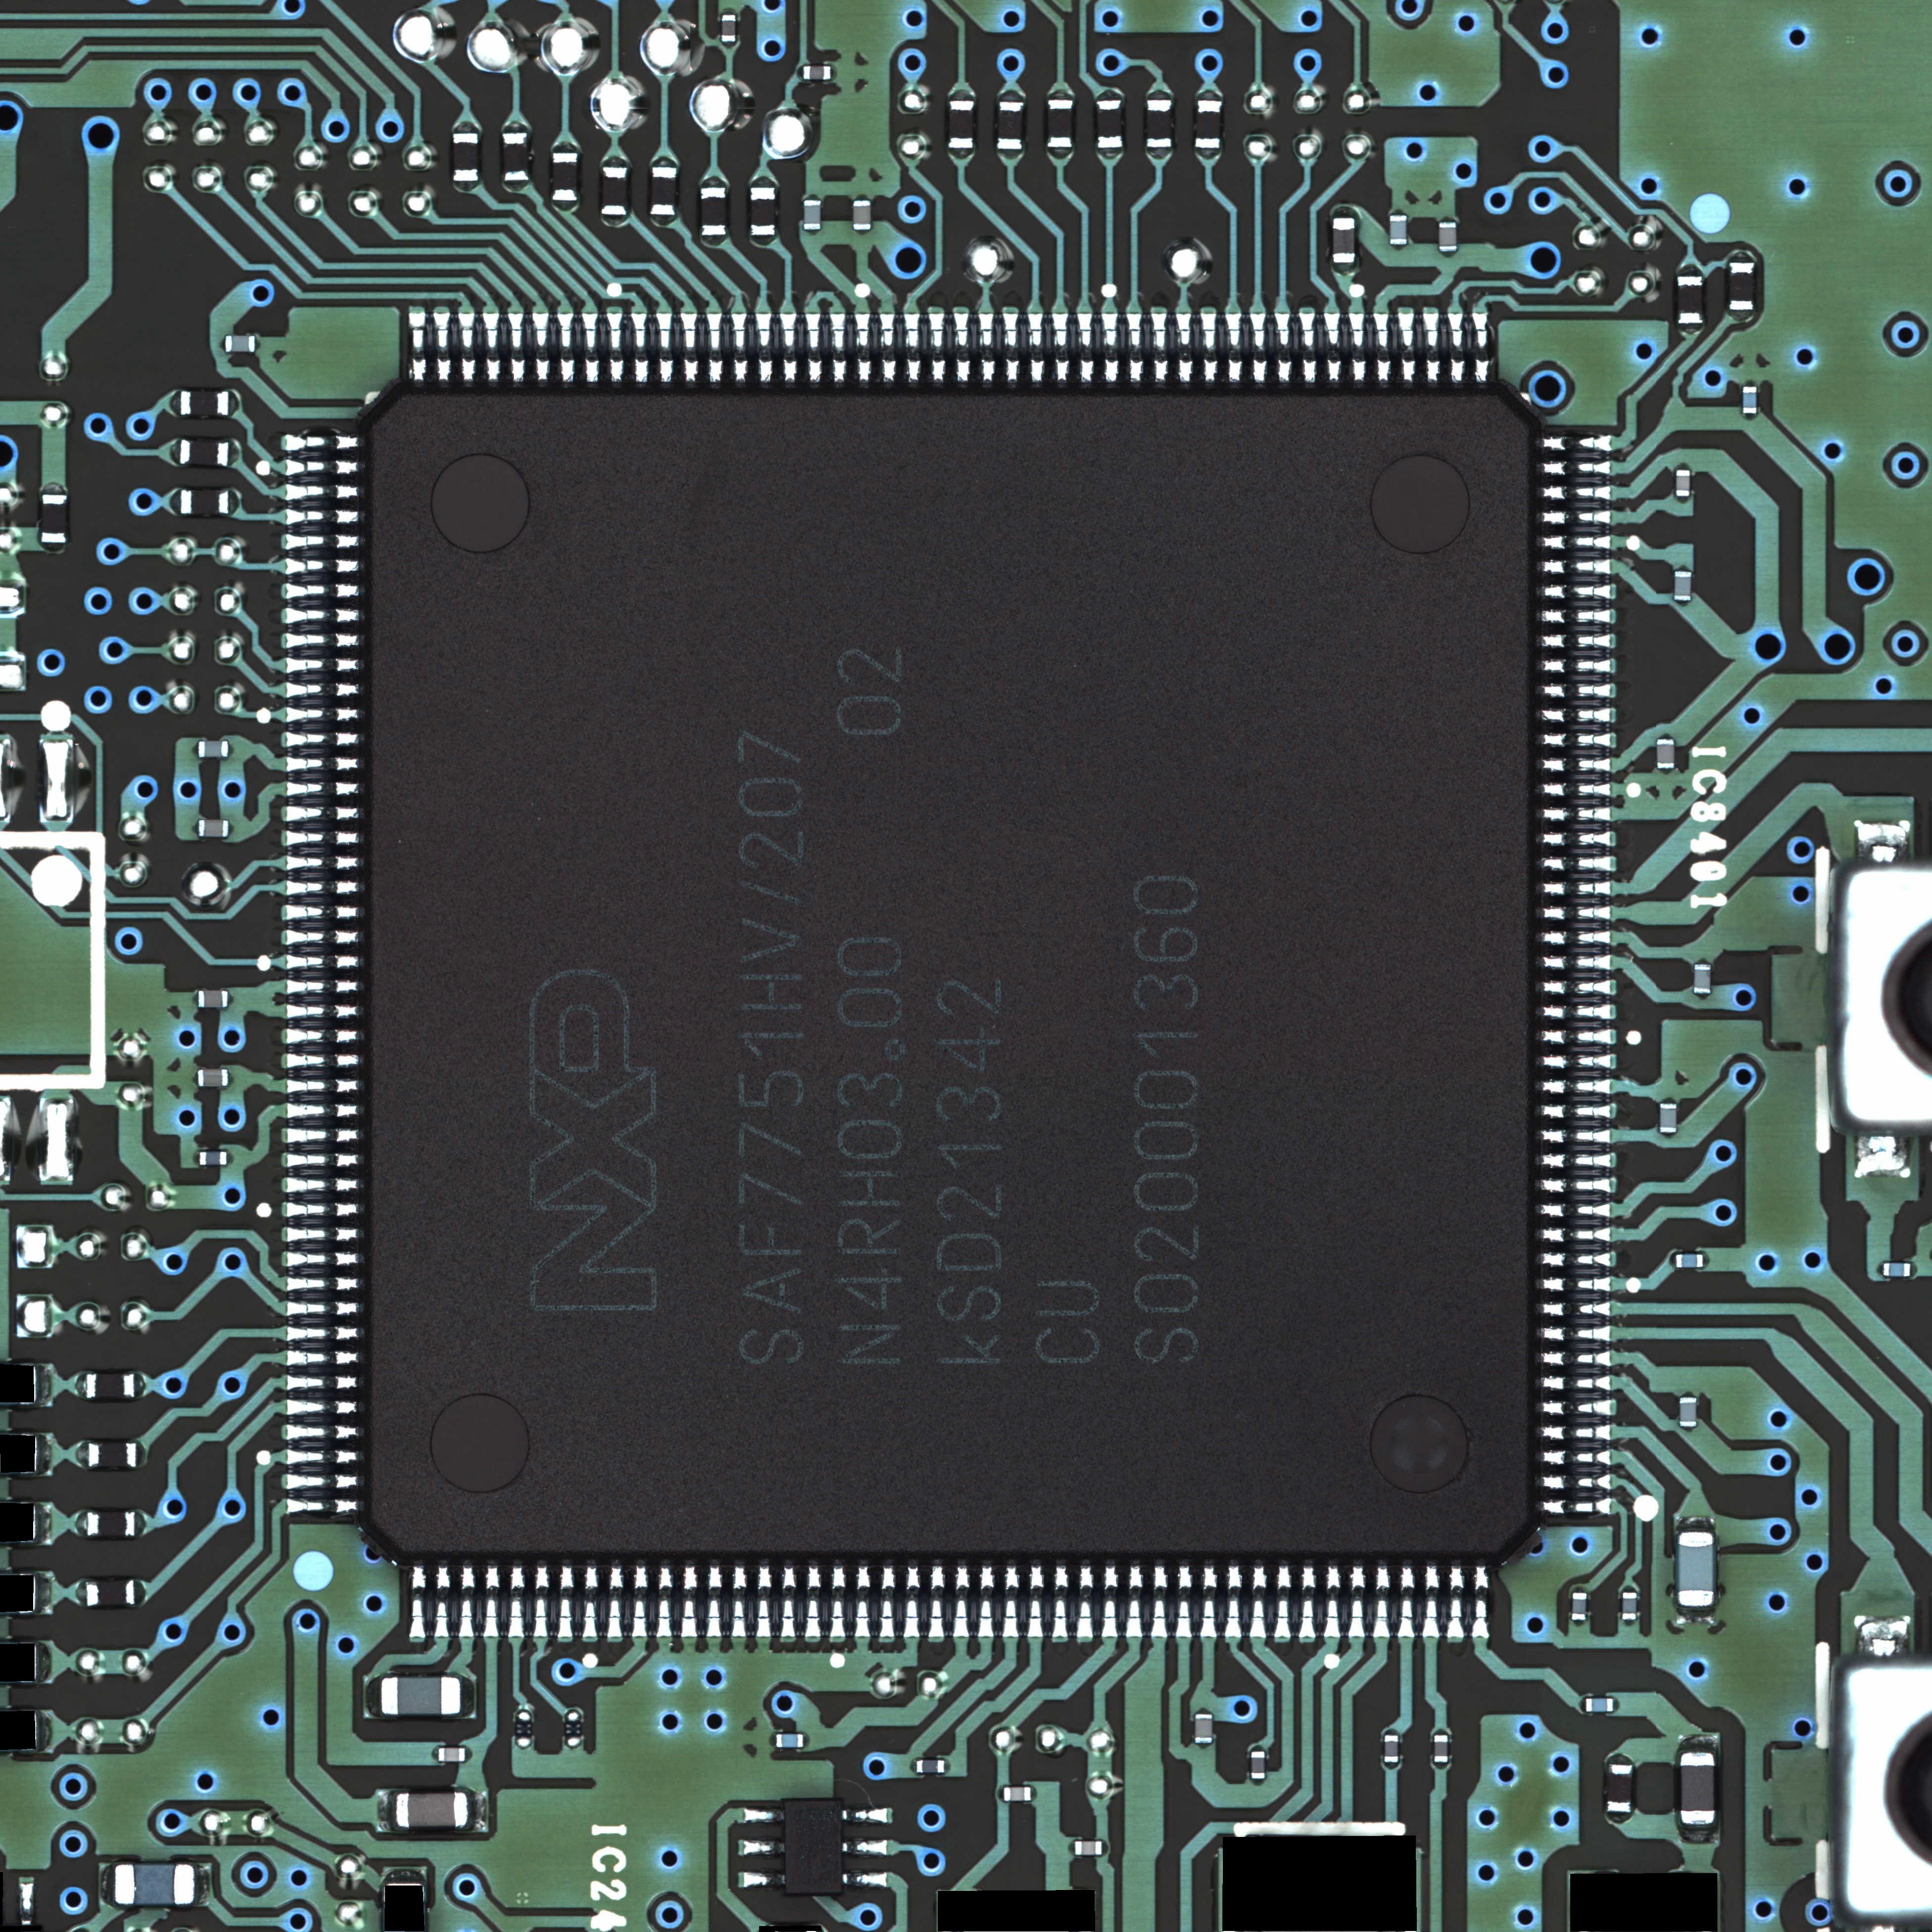Package: (366, 387, 1534, 1559), (786, 1799, 842, 1893), (115, 1863, 195, 1904), (380, 1677, 460, 1714), (1677, 1532, 1713, 1606), (396, 1792, 467, 1828), (1681, 1752, 1714, 1824), (1196, 99, 1223, 149), (180, 439, 228, 465), (41, 495, 67, 543), (87, 1580, 134, 1606), (998, 101, 1024, 149), (651, 166, 676, 216), (180, 391, 228, 416), (87, 1373, 134, 1398), (88, 1444, 136, 1468), (453, 133, 478, 180), (502, 133, 527, 180), (552, 152, 577, 200), (602, 168, 626, 216), (701, 188, 725, 235), (750, 188, 775, 235), (950, 101, 975, 149), (1047, 99, 1072, 147), (1097, 101, 1122, 149), (1146, 99, 1171, 147), (1677, 276, 1702, 324), (180, 490, 228, 513), (87, 1513, 134, 1536), (1730, 262, 1753, 310), (1608, 1764, 1631, 1812), (1332, 218, 1355, 264), (198, 740, 228, 757), (198, 819, 228, 837), (803, 200, 821, 230), (853, 200, 870, 230), (1679, 1398, 1697, 1428), (226, 334, 255, 352), (1438, 223, 1456, 251), (1674, 571, 1691, 600), (1656, 740, 1674, 768), (1693, 964, 1711, 993), (1660, 1104, 1677, 1132), (1194, 1714, 1212, 1743), (198, 991, 228, 1007), (198, 1070, 228, 1086), (1391, 216, 1407, 244), (1433, 1734, 1449, 1762), (1003, 1785, 1031, 1801), (1384, 1736, 1399, 1762), (722, 14, 736, 42), (1882, 1263, 1911, 1277), (1573, 1592, 1587, 1621), (775, 1734, 803, 1748), (439, 1748, 465, 1762), (803, 65, 830, 80), (1743, 387, 1757, 414), (1622, 1592, 1637, 1619), (1251, 1752, 1265, 1778), (1675, 471, 1690, 495), (1677, 1254, 1702, 1269), (1585, 1698, 1614, 1711), (916, 1760, 945, 1773), (200, 1152, 226, 1164), (1076, 1842, 1102, 1854)
Solder: (1322, 311, 1341, 387), (1371, 311, 1391, 387), (1173, 311, 1192, 387), (826, 311, 846, 387), (902, 311, 922, 387), (777, 311, 796, 387), (975, 311, 994, 387), (1024, 311, 1044, 387), (630, 311, 649, 386), (679, 311, 699, 386), (508, 311, 527, 386), (285, 1001, 364, 1019), (285, 977, 364, 994), (285, 1051, 364, 1069), (1150, 1559, 1168, 1638), (1175, 1559, 1192, 1638), (1224, 1559, 1242, 1638), (1249, 1559, 1267, 1638), (1274, 1559, 1292, 1638), (927, 1559, 945, 1638), (1076, 1559, 1093, 1638), (1001, 1559, 1019, 1638), (1026, 1559, 1044, 1638), (580, 1559, 598, 1638), (655, 1559, 672, 1638), (508, 1559, 525, 1638), (1100, 1559, 1118, 1638), (1125, 1559, 1143, 1638), (1200, 1559, 1217, 1638), (1472, 1559, 1490, 1638), (1447, 1559, 1465, 1638), (1422, 1559, 1440, 1638), (1398, 1559, 1415, 1638), (1373, 1559, 1391, 1638), (1348, 1559, 1366, 1638), (1323, 1559, 1341, 1638), (1299, 1559, 1316, 1638), (1534, 954, 1612, 971), (803, 1559, 821, 1637), (632, 1559, 649, 1637), (483, 1559, 501, 1637), (1472, 311, 1490, 387), (1447, 311, 1465, 387), (1422, 311, 1440, 387), (1398, 311, 1415, 387), (1297, 311, 1315, 387), (1346, 311, 1364, 387), (1200, 311, 1217, 387), (1099, 311, 1116, 387), (1125, 311, 1143, 387), (1148, 311, 1166, 387), (1224, 311, 1242, 387), (1249, 311, 1267, 387), (1274, 311, 1292, 387), (853, 311, 870, 387), (927, 311, 945, 387), (952, 311, 970, 387), (803, 311, 821, 387), (1076, 311, 1093, 387), (1001, 311, 1019, 387), (1051, 311, 1069, 387), (878, 311, 895, 387), (605, 311, 623, 386), (580, 311, 598, 386), (556, 311, 573, 386), (531, 311, 548, 386), (656, 311, 674, 386), (706, 311, 724, 386), (729, 311, 747, 386), (754, 311, 771, 386), (409, 311, 426, 386), (433, 311, 451, 386), (458, 311, 476, 386), (483, 311, 501, 386), (285, 510, 366, 525), (285, 485, 366, 501), (285, 607, 366, 623), (285, 584, 366, 600), (285, 755, 366, 771), (285, 731, 366, 747), (285, 805, 366, 821), (285, 780, 366, 796), (285, 1300, 366, 1316), (285, 1276, 366, 1292), (285, 1350, 366, 1366), (285, 1451, 366, 1467), (285, 1424, 366, 1440), (285, 1399, 366, 1415), (285, 1375, 366, 1391), (285, 435, 364, 451), (285, 460, 364, 476), (285, 559, 364, 575), (285, 533, 364, 548), (285, 656, 364, 672), (285, 632, 364, 648), (285, 706, 364, 722), (285, 681, 364, 697), (285, 855, 364, 870), (285, 830, 364, 846), (285, 954, 364, 970), (285, 929, 364, 945), (285, 904, 364, 920), (285, 879, 364, 895), (285, 1102, 364, 1118), (285, 1076, 364, 1092), (285, 1028, 364, 1044), (285, 1178, 364, 1194), (285, 1251, 364, 1267), (285, 1226, 364, 1242), (285, 1325, 364, 1341), (285, 1127, 364, 1143), (285, 1201, 364, 1217), (285, 1154, 364, 1169), (285, 1474, 364, 1490), (285, 1499, 364, 1514), (855, 1559, 870, 1638), (904, 1559, 920, 1638), (954, 1559, 970, 1638), (978, 1559, 994, 1638), (1053, 1559, 1069, 1638), (879, 1559, 895, 1638), (607, 1559, 623, 1638), (557, 1559, 573, 1638), (533, 1559, 548, 1638), (409, 1559, 425, 1638), (433, 1559, 449, 1638), (458, 1559, 474, 1638), (1534, 708, 1612, 724), (1534, 681, 1612, 697), (1534, 855, 1612, 870), (1534, 830, 1612, 846), (1534, 929, 1612, 945), (1534, 904, 1612, 920), (1534, 879, 1612, 895), (1534, 1003, 1612, 1019), (1534, 1077, 1612, 1093), (1534, 780, 1612, 796), (1534, 1350, 1612, 1366), (1534, 1399, 1612, 1415), (1534, 1474, 1612, 1490), (1534, 1499, 1612, 1514), (1534, 435, 1612, 451), (830, 1559, 846, 1637), (780, 1559, 796, 1637), (681, 1559, 697, 1637), (706, 1559, 722, 1637), (731, 1559, 747, 1637), (755, 1559, 771, 1637), (1536, 584, 1612, 600), (1536, 559, 1612, 575), (1536, 755, 1612, 771), (1536, 1028, 1612, 1044), (1534, 460, 1612, 474), (1534, 807, 1612, 821), (1534, 980, 1612, 994), (1534, 1104, 1612, 1118), (1534, 1302, 1612, 1316), (1534, 1253, 1612, 1267), (1534, 1228, 1612, 1242), (1534, 1327, 1612, 1341), (1534, 1129, 1612, 1143), (1534, 1154, 1612, 1168), (1536, 510, 1612, 524), (1536, 485, 1612, 499), (1536, 609, 1612, 623), (1536, 534, 1612, 548), (1536, 658, 1612, 672), (1536, 633, 1612, 648), (1536, 732, 1612, 747), (1536, 1178, 1612, 1192), (1536, 1277, 1612, 1292), (1536, 1451, 1612, 1465), (1536, 1426, 1612, 1440), (1534, 1376, 1610, 1391), (1536, 1203, 1610, 1217), (1534, 1054, 1612, 1067), (1679, 1824, 1720, 1844), (380, 1868, 428, 1884), (1675, 1606, 1716, 1624), (469, 1790, 487, 1831), (37, 1709, 53, 1753), (19, 1877, 34, 1927), (1679, 1734, 1718, 1752), (743, 1840, 786, 1856), (37, 1433, 53, 1476), (35, 1502, 51, 1545), (37, 1642, 53, 1684), (842, 1808, 888, 1822), (842, 1840, 888, 1854), (842, 1872, 888, 1886), (743, 1872, 784, 1888), (743, 1808, 784, 1824), (379, 1790, 395, 1831), (37, 1366, 53, 1407), (37, 1573, 53, 1614), (196, 1863, 211, 1905), (101, 1863, 115, 1905), (1675, 1516, 1716, 1530), (460, 1675, 474, 1716), (366, 1675, 380, 1716), (1146, 147, 1171, 161), (228, 439, 241, 467), (453, 180, 479, 193), (600, 154, 626, 166), (1729, 310, 1755, 322), (1606, 1812, 1633, 1824), (134, 1373, 147, 1399), (134, 1511, 147, 1537), (134, 1580, 147, 1606), (74, 1580, 87, 1606), (453, 120, 478, 133), (502, 120, 527, 133), (502, 180, 527, 193), (552, 140, 577, 152), (750, 175, 775, 188), (948, 149, 973, 161), (1047, 147, 1072, 159), (1097, 149, 1122, 161), (1196, 149, 1221, 161), (1677, 264, 1702, 276), (1679, 324, 1704, 336), (74, 1373, 87, 1398), (228, 488, 239, 517), (701, 175, 724, 188), (1332, 205, 1355, 218), (1332, 264, 1355, 276), (76, 1444, 88, 1467), (74, 1513, 87, 1536), (168, 391, 180, 414), (42, 481, 65, 494), (602, 216, 628, 226), (649, 156, 676, 166), (998, 90, 1024, 101), (1095, 88, 1122, 99), (1194, 88, 1221, 99), (1729, 251, 1755, 262), (1606, 1753, 1633, 1764), (170, 439, 180, 465), (552, 202, 577, 212), (701, 237, 725, 248), (1047, 88, 1072, 99), (1146, 88, 1171, 99), (998, 150, 1023, 161), (136, 1442, 147, 1467), (170, 490, 180, 515), (228, 391, 239, 416), (653, 216, 676, 226), (752, 235, 775, 246), (41, 543, 67, 552), (948, 90, 973, 99), (1384, 1762, 1399, 1771), (1438, 251, 1458, 258), (853, 193, 870, 200), (1668, 1251, 1675, 1269), (1194, 1743, 1212, 1750), (1031, 1785, 1039, 1803), (996, 1785, 1003, 1803), (191, 819, 198, 837), (228, 740, 235, 757), (191, 740, 198, 757), (255, 334, 262, 352), (805, 193, 821, 200), (1391, 244, 1407, 251), (1674, 564, 1690, 571), (1675, 600, 1691, 607), (1658, 768, 1674, 775), (1693, 993, 1709, 1000), (1704, 1253, 1711, 1269), (1875, 1261, 1882, 1277), (1911, 1261, 1918, 1277), (1571, 1621, 1587, 1628), (1578, 1697, 1585, 1713), (1433, 1762, 1449, 1769), (1102, 1840, 1109, 1856), (803, 1732, 810, 1748), (768, 1732, 775, 1748), (465, 1746, 472, 1762), (432, 1746, 439, 1762), (228, 1070, 235, 1086), (191, 1070, 198, 1086), (191, 991, 198, 1007), (228, 989, 234, 1008), (722, 7, 736, 14), (722, 42, 736, 50), (796, 65, 803, 80), (1743, 414, 1757, 421), (1675, 462, 1690, 469), (1675, 497, 1690, 504), (1622, 1585, 1637, 1592), (1573, 1585, 1587, 1592), (1251, 1744, 1265, 1752), (1251, 1780, 1265, 1787), (945, 1759, 952, 1773), (909, 1759, 916, 1773), (193, 1152, 200, 1166), (853, 230, 870, 235), (1438, 216, 1456, 221), (1693, 959, 1711, 964), (1660, 1134, 1677, 1139), (1194, 1707, 1212, 1713), (228, 819, 234, 837), (219, 334, 225, 352), (805, 230, 821, 235), (1391, 209, 1407, 214), (1658, 732, 1674, 738), (1660, 1097, 1675, 1102), (1681, 1391, 1697, 1396), (1681, 1428, 1697, 1433), (1614, 1697, 1619, 1713), (1433, 1729, 1449, 1734), (1384, 1729, 1399, 1734), (832, 65, 837, 80), (1743, 380, 1757, 386), (1622, 1621, 1637, 1626), (1069, 1840, 1074, 1854), (228, 1152, 234, 1166)
